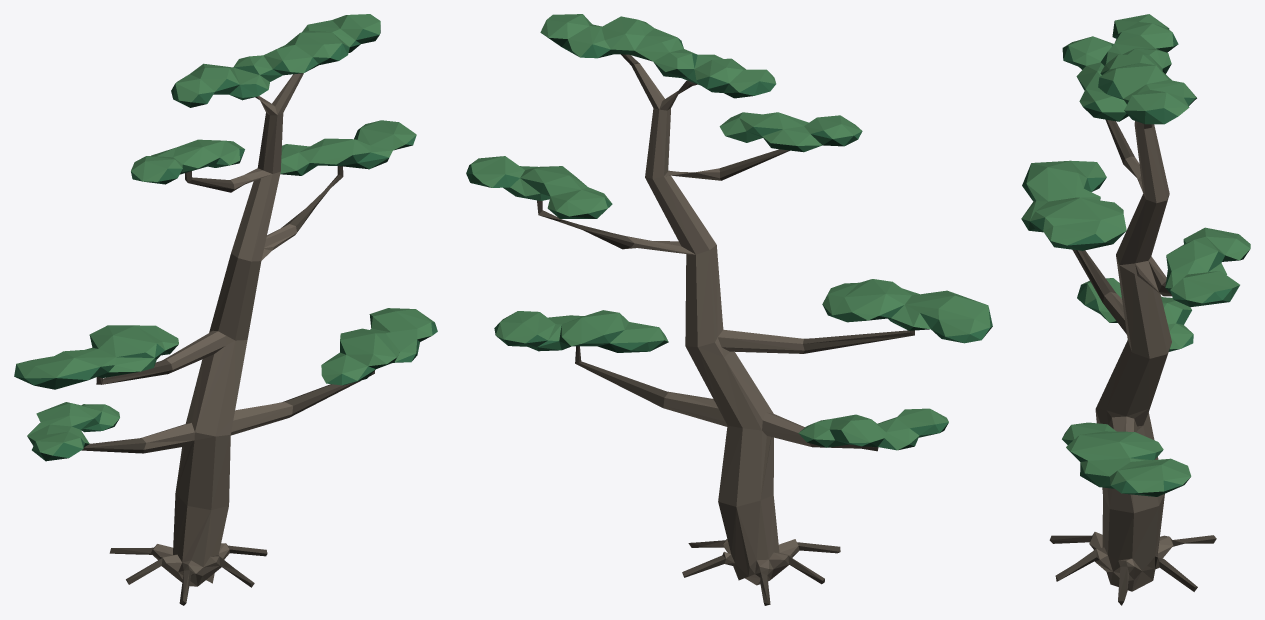
The model's file is ancient-pine-4137-lod2.glb.
The picture shows the model from 3 angles, left to right: view 1: azimuth 30°, elevation 25°; view 2: azimuth 150°, elevation 25°; view 3: azimuth 270°, elevation 25°; orthographic projection. The views are drawn at different scales.
Visible parts, largest first — view 1: n8.006, n12.006, n9.006, n11.006, n10.006; view 2: n12.006, n8.006, n9.006, n11.006, n10.006; view 3: n12.006, n8.006, n11.006, n9.006, n10.006.
Part boxes in pixels (<box>): n8.006: <box>141,73,303,586</box>; n12.006: <box>16,14,434,455</box>; n9.006: <box>81,97,374,605</box>; n11.006: <box>14,25,437,457</box>; n10.006: <box>15,35,431,461</box>; n12.006: <box>470,14,990,450</box>; n8.006: <box>623,63,811,585</box>; n9.006: <box>537,54,914,605</box>; n11.006: <box>466,38,992,450</box>; n10.006: <box>471,35,992,450</box>; n12.006: <box>1021,14,1250,492</box>; n8.006: <box>1089,121,1173,591</box>; n11.006: <box>1021,21,1239,493</box>; n9.006: <box>1049,119,1216,605</box>; n10.006: <box>1022,34,1249,496</box>.
Bounding box in the file's own units: 4.93 × 5.41 × 1.92.
